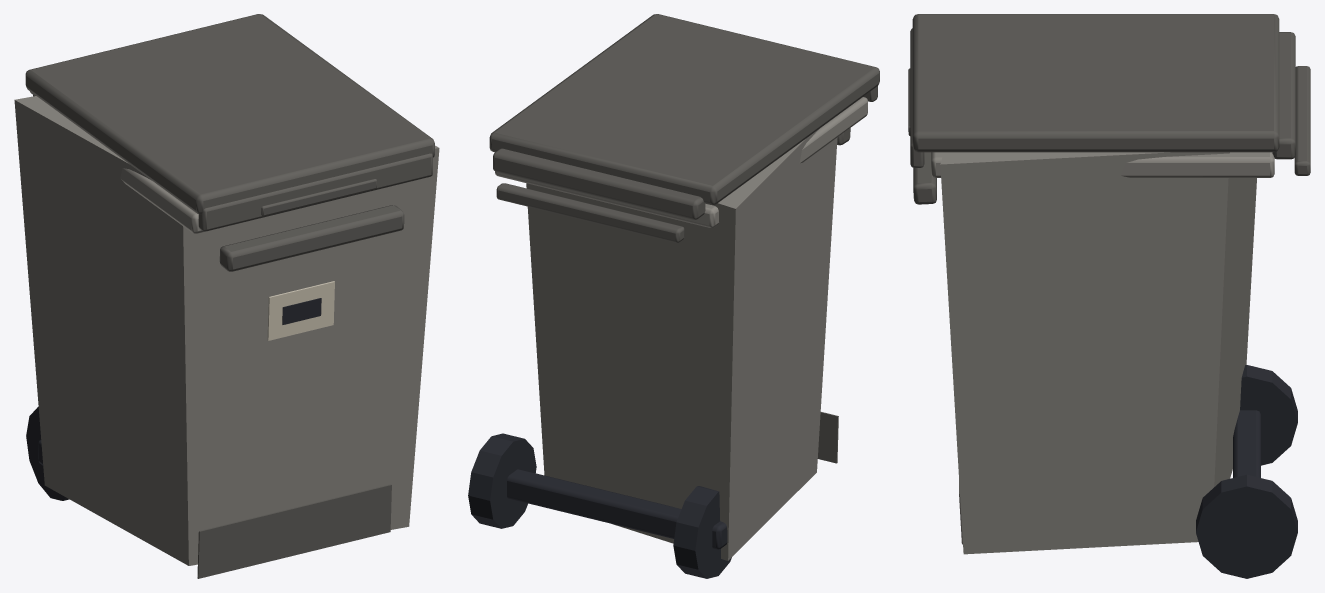
The model's file is wheelie_bin.fbx.
3 views of the same model, side by side, from view 1: azimuth 30°, elevation 25°; view 2: azimuth 150°, elevation 25°; view 3: azimuth 270°, elevation 25° (orthographic). The views are drawn at different scales.
Visible parts, largest first — view 1: wheelie_bin; view 2: wheelie_bin; view 3: wheelie_bin.
Boxes of the visible parts, box(x1,y1,x2,y2) form: wheelie_bin: box(14, 14, 439, 578); wheelie_bin: box(468, 14, 879, 578); wheelie_bin: box(908, 14, 1310, 578).
Bounding box in the file's own units: 0.7009 × 0.8671 × 1.04.
